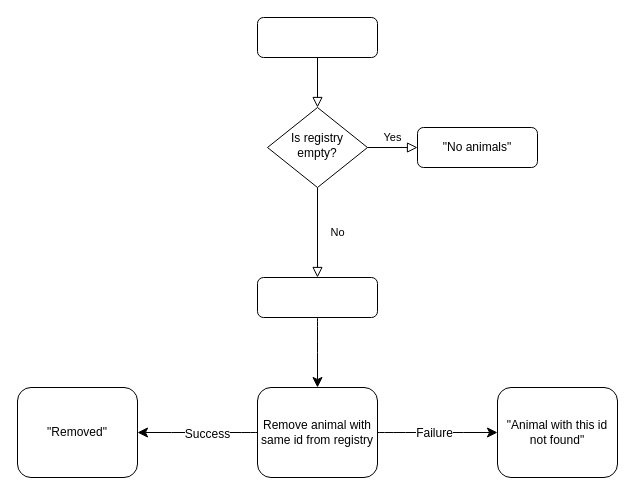
Image size: 635x495. Some labels were removed from this diagram. Here are the shapes that lost their labels. From the top down, the centre of each, then its label:
[317,37]: Start
[317,297]: Ask for id
